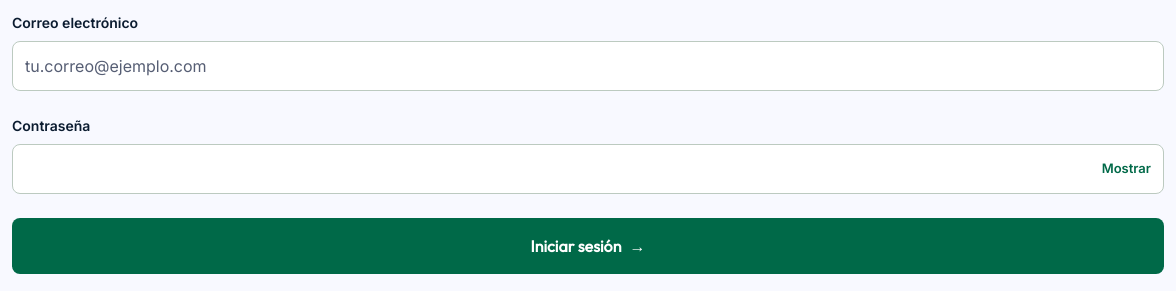
Test case: US-001 LoginForm › muestra y oculta contraseña sin alterar el valor
Type "input" into the password field labelled "Contraseña".
click(588, 169); type("input")  # box left=12, top=144, right=1164, bottom=194
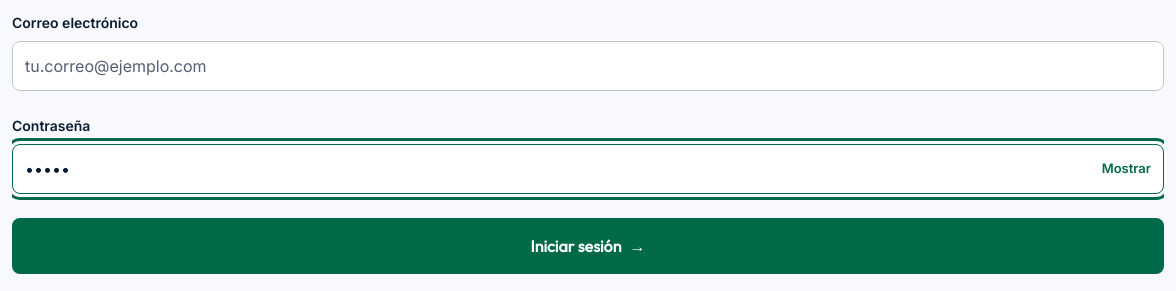
Click the button with aria-label "Mostrar contraseña".
click(1126, 169)  # box left=1090, top=145, right=1163, bottom=193
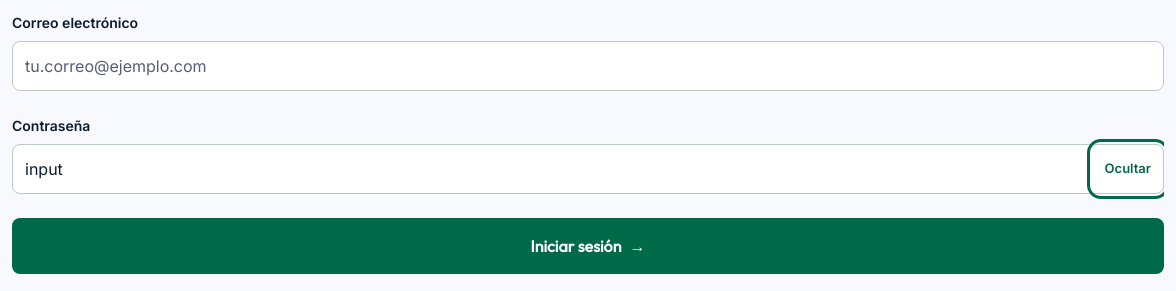
Expected: the field labelled "Contraseña" shows its text, left=12, top=144, right=1164, bottom=194
Click the button with aria-label "Ocultar contraseña".
click(1128, 169)  # box left=1093, top=145, right=1163, bottom=193
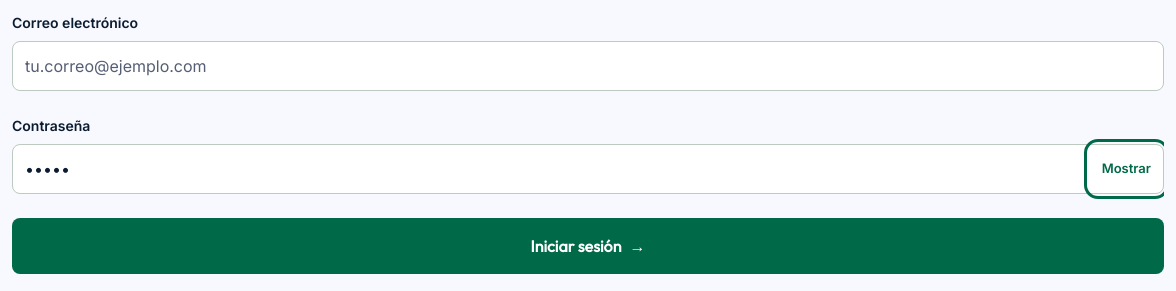
Expected: the password field labelled "Contraseña" hides its text, left=12, top=144, right=1164, bottom=194
